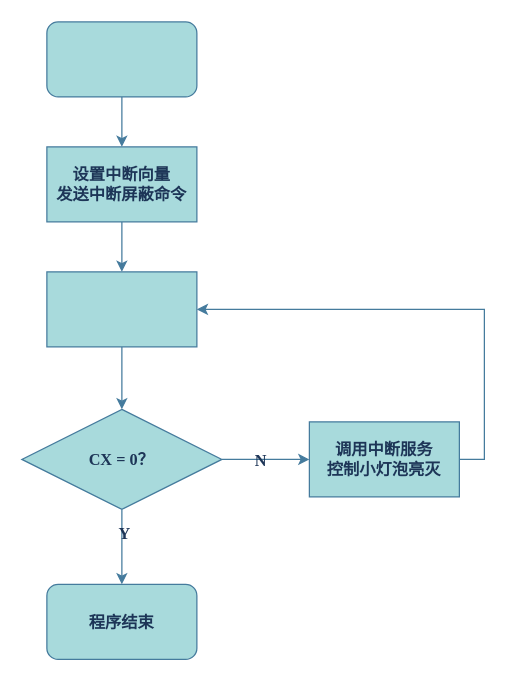
Image size: 516x681. Some labels were removed from this diagram. Here are the shapes that lost their labels. From the top down, the box of each, then its label:
(46, 21, 197, 97): 程序开始
(46, 271, 197, 347): 制造PC6上升沿
